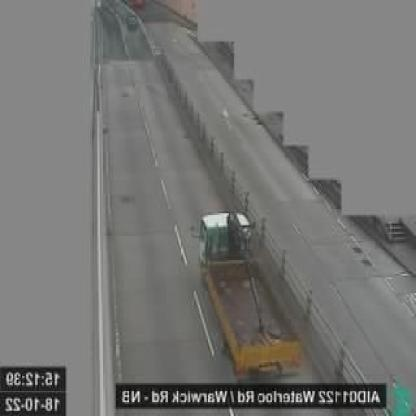Truck: (196, 214, 306, 384)
